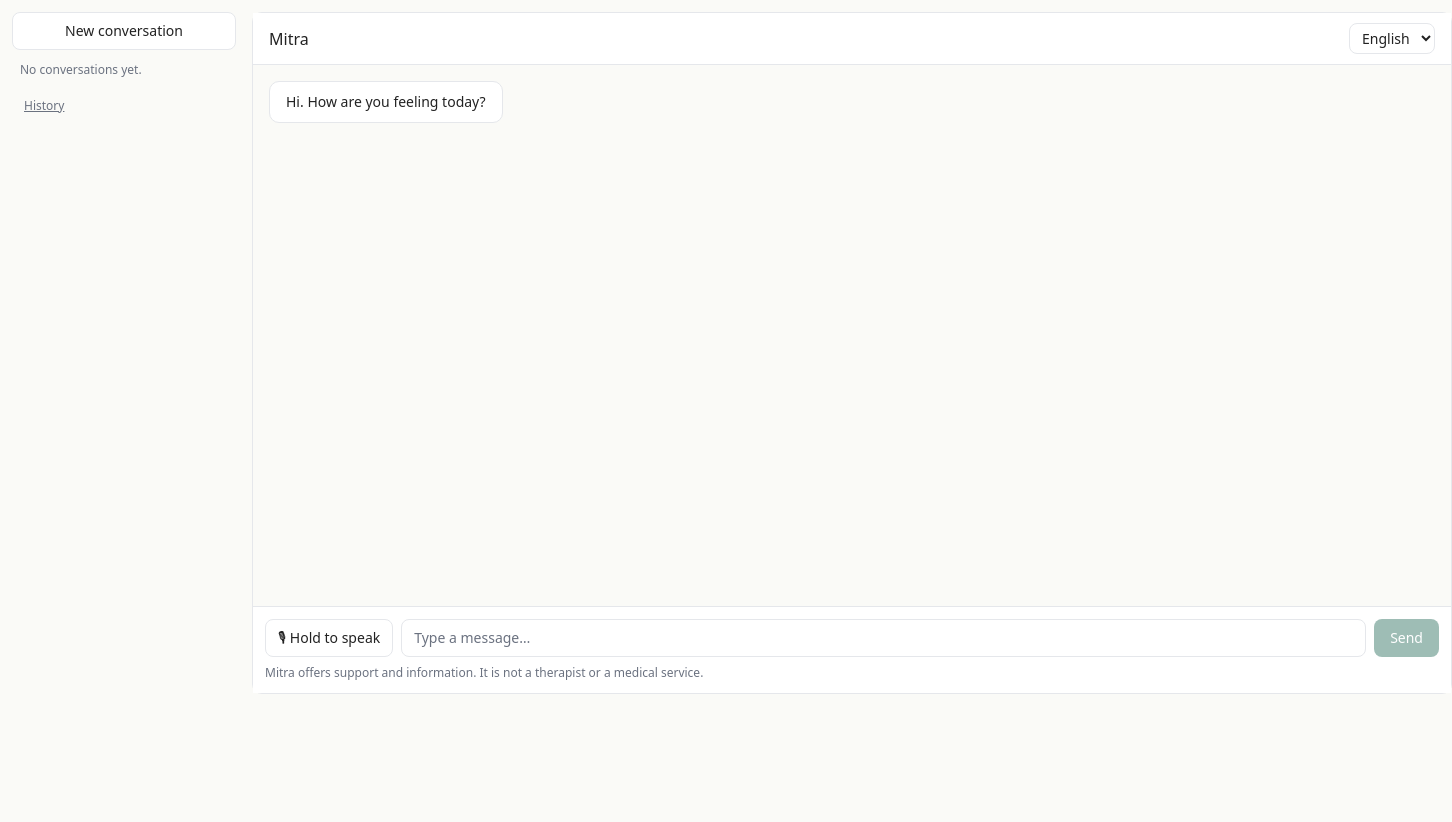
Chat › creates a conversation, sends the message and shows the reply with sources
Type "I am stressed about exams" into the field labelled "Type a message…" at (884, 638), box [401, 619, 1366, 657]
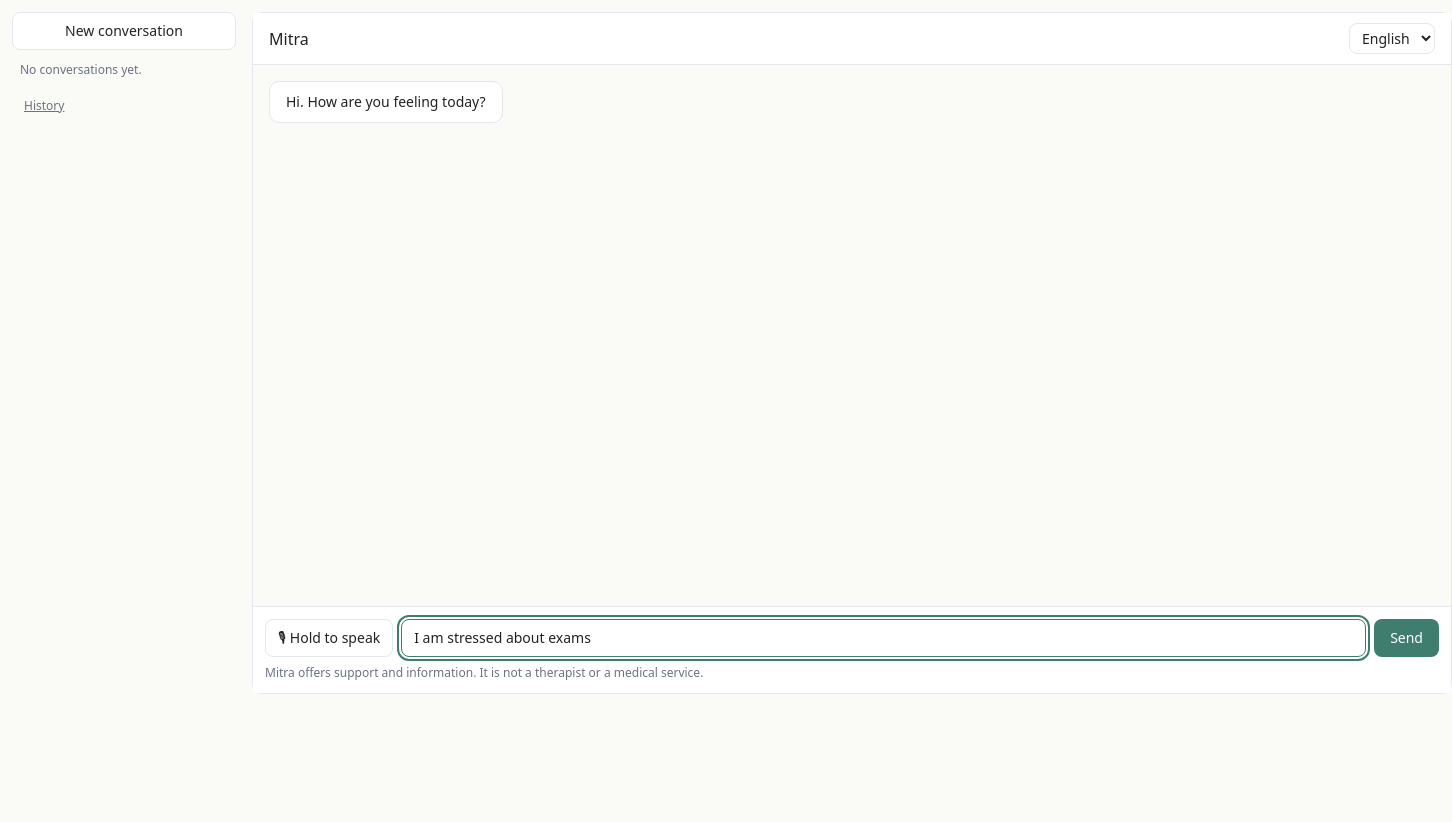
Click the button "Send" at (1407, 638), box [1374, 619, 1439, 657]
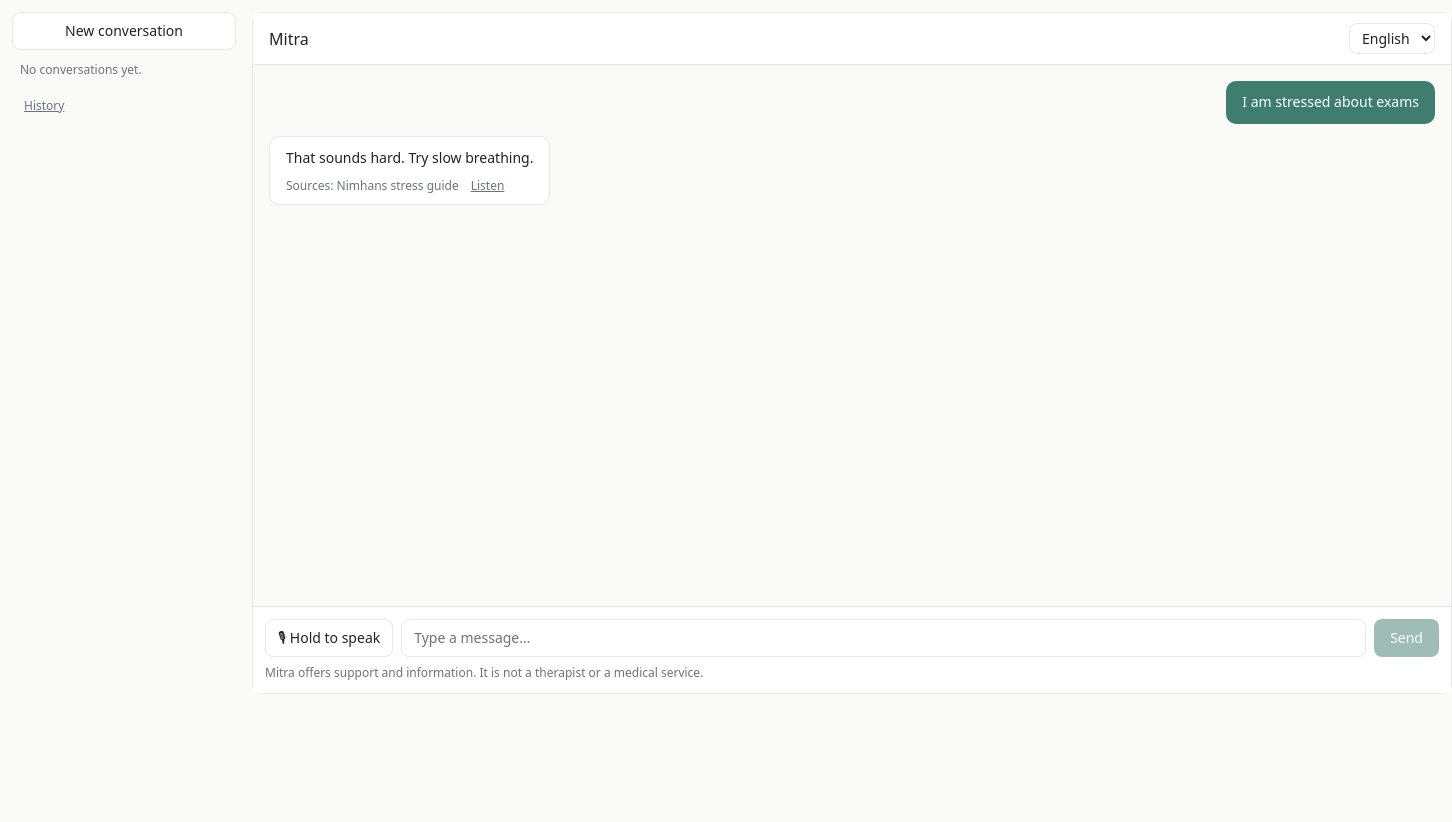
Expected: the text "Try slow breathing" is shown, [286, 148, 533, 167]
Expected: the text "Sources: Nimhans stress guide" is shown, [286, 178, 459, 194]
